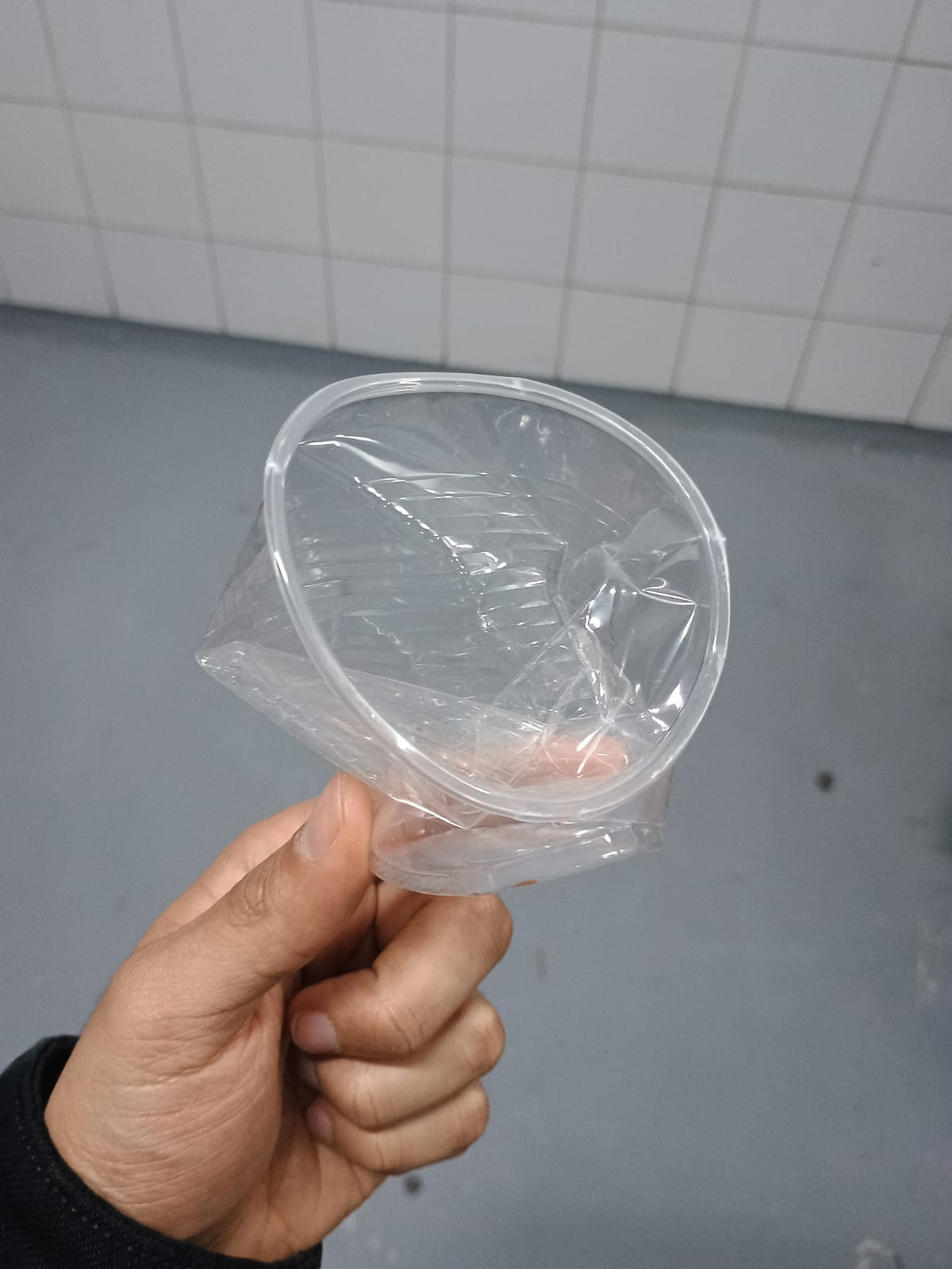Plastico: (195, 373, 733, 896)
